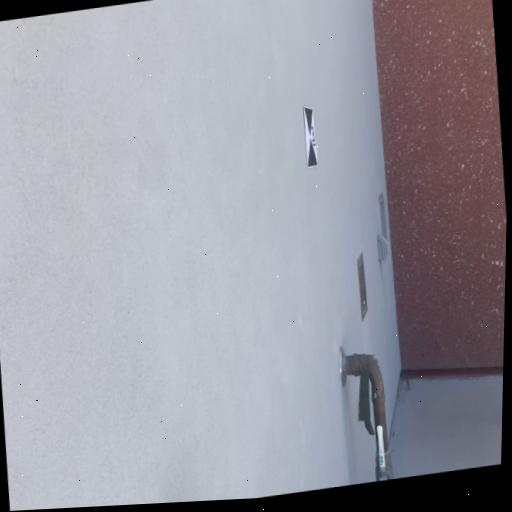target3: (303, 105, 318, 168)
